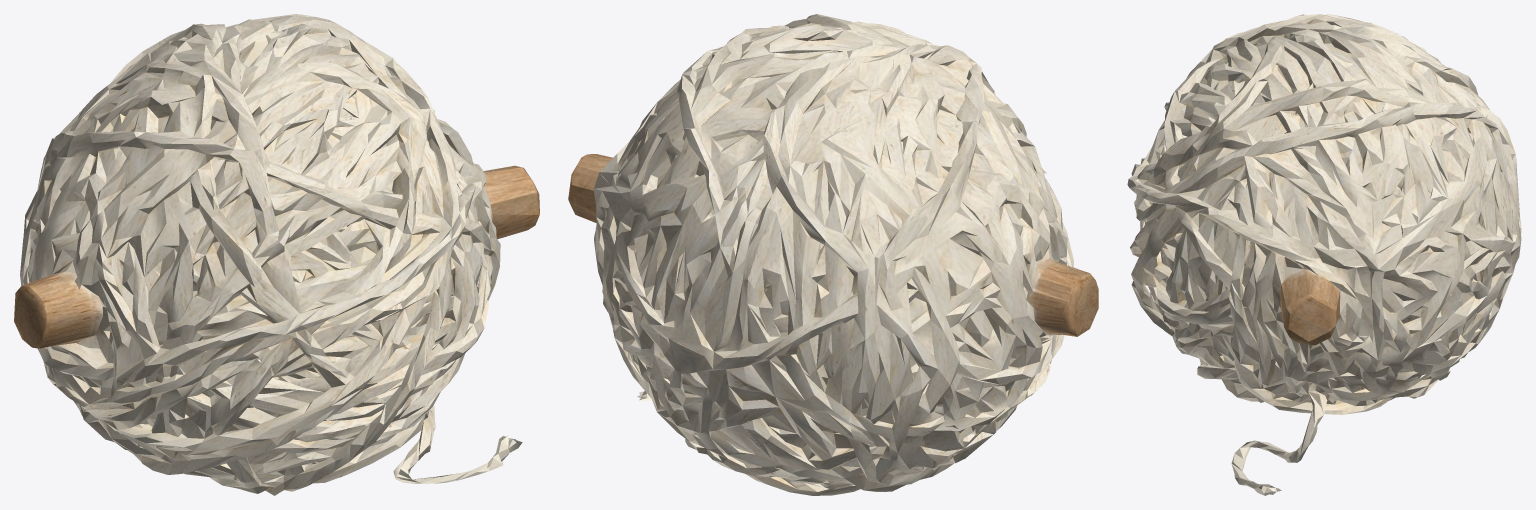
The model's file is w51threadreel.glb.
3 renders of one model, left to right at view 1: azimuth 30°, elevation 25°; view 2: azimuth 150°, elevation 25°; view 3: azimuth 270°, elevation 25°, orthographic. The views are drawn at different scales.
Parts seen in each view (by area): view 1: output_unwrapped; view 2: output_unwrapped; view 3: output_unwrapped.
Boxes of the visible parts, left/top/right/bottom form: output_unwrapped: left=14, top=14, right=539, bottom=495; output_unwrapped: left=568, top=14, right=1098, bottom=495; output_unwrapped: left=1127, top=14, right=1521, bottom=495.
Size of the model in its own units: 0.1 by 0.0836 by 0.0799.
1 material, 1 textured.
